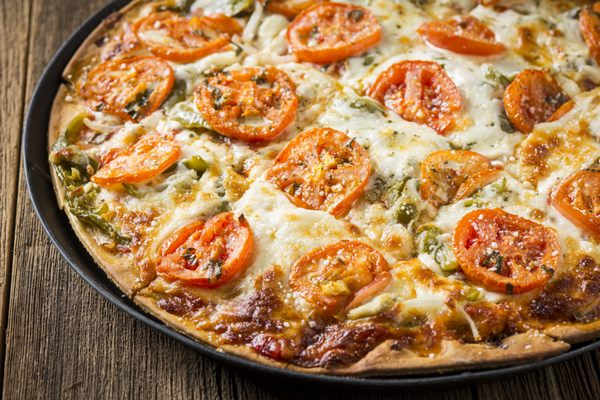sandwich: (23, 0, 600, 383)
